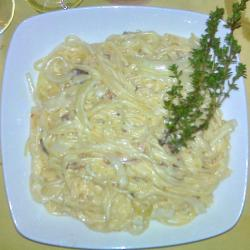carbonara: (19, 27, 243, 232)
